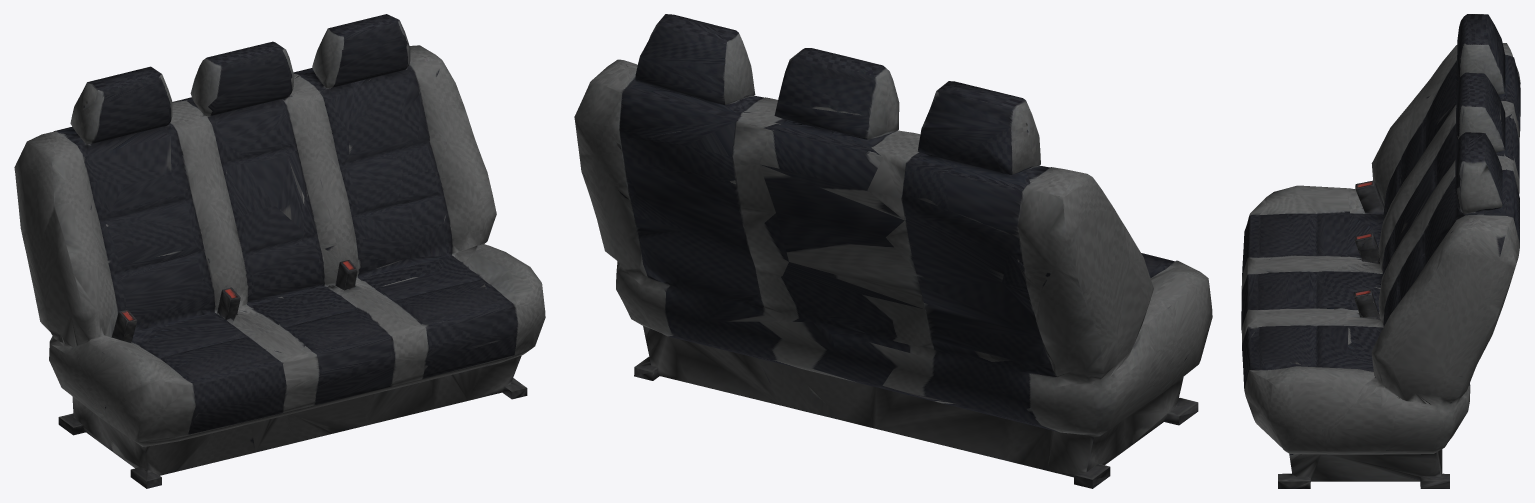
File: SM_Ini_CarBench.fbx
The picture shows the model from 3 angles, left to right: view 1: azimuth 30°, elevation 25°; view 2: azimuth 150°, elevation 25°; view 3: azimuth 270°, elevation 25°; orthographic projection. The views are drawn at different scales.
Parts seen in each view (by area): view 1: CarBench; view 2: CarBench; view 3: CarBench.
Part boxes in pixels (left/top/right/bottom): CarBench: left=14, top=14, right=545, bottom=488; CarBench: left=574, top=14, right=1212, bottom=488; CarBench: left=1241, top=14, right=1520, bottom=488.
Size of the model in its own units: 1.36 by 0.9815 by 0.7896.
1 material, 1 textured.
